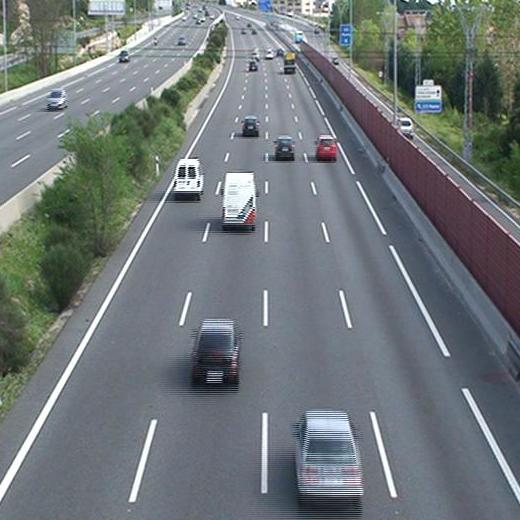car: (292, 408, 365, 503), (191, 318, 242, 390), (313, 135, 338, 160), (274, 135, 297, 160), (240, 115, 260, 137), (249, 59, 259, 73)
small-truck: (283, 52, 297, 74)
van: (221, 171, 258, 229), (174, 158, 204, 197)
